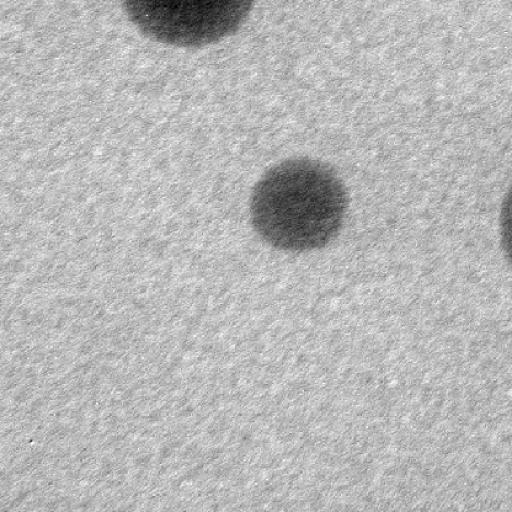Nanoparticles: (245, 154, 360, 256), (123, 0, 261, 54), (492, 180, 512, 270)
